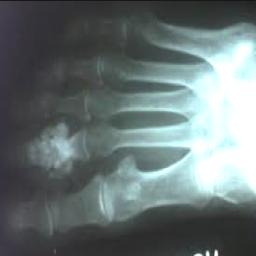cancer: (27, 119, 73, 181)
